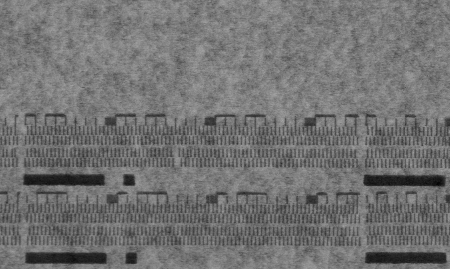Broken hole: (169, 147, 185, 169)
Oblique printing: (5, 146, 18, 158)
